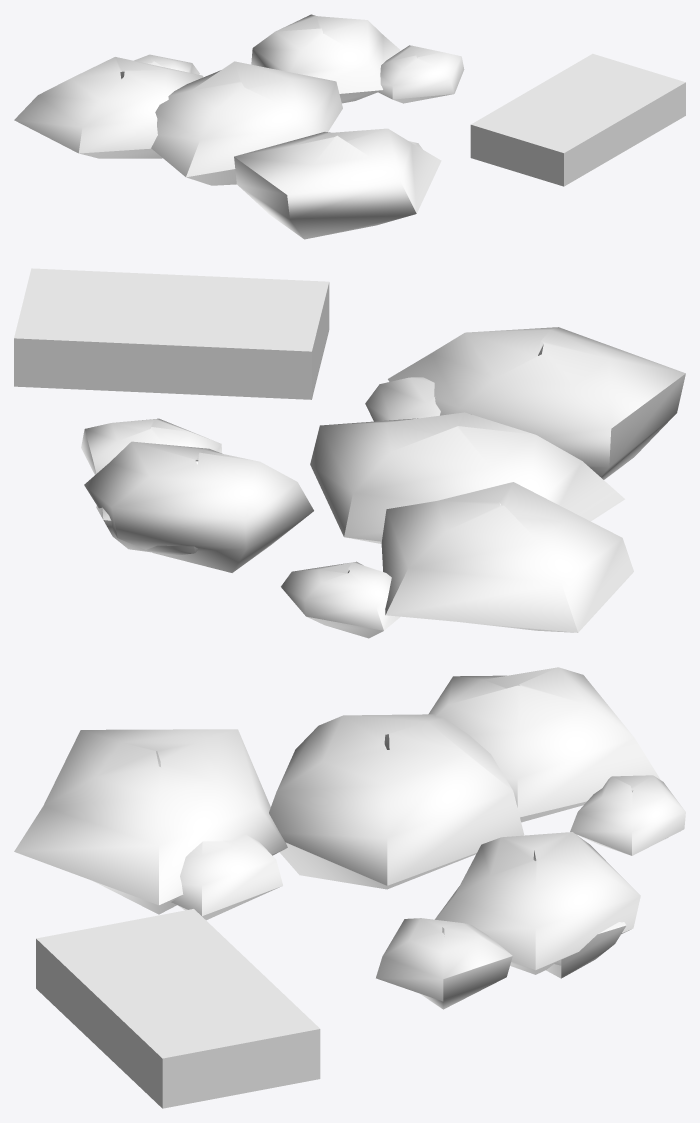
Rendered from rubble.glb.
3 renders of one model, top to bottom at view 1: azimuth 30°, elevation 25°; view 2: azimuth 150°, elevation 25°; view 3: azimuth 270°, elevation 25°, orthographic. The views are drawn at different scales.
Visible parts, largest first — view 1: Rubble; view 2: Rubble; view 3: Rubble.
Boxes of the visible parts, left/top/right/bottom form: Rubble: left=14, top=14, right=685, bottom=239; Rubble: left=14, top=268, right=685, bottom=638; Rubble: left=14, top=667, right=685, bottom=1108.
Size of the model in its own units: 2.63 by 0.4003 by 1.94.
Materials: 1 (1 with a texture image).
